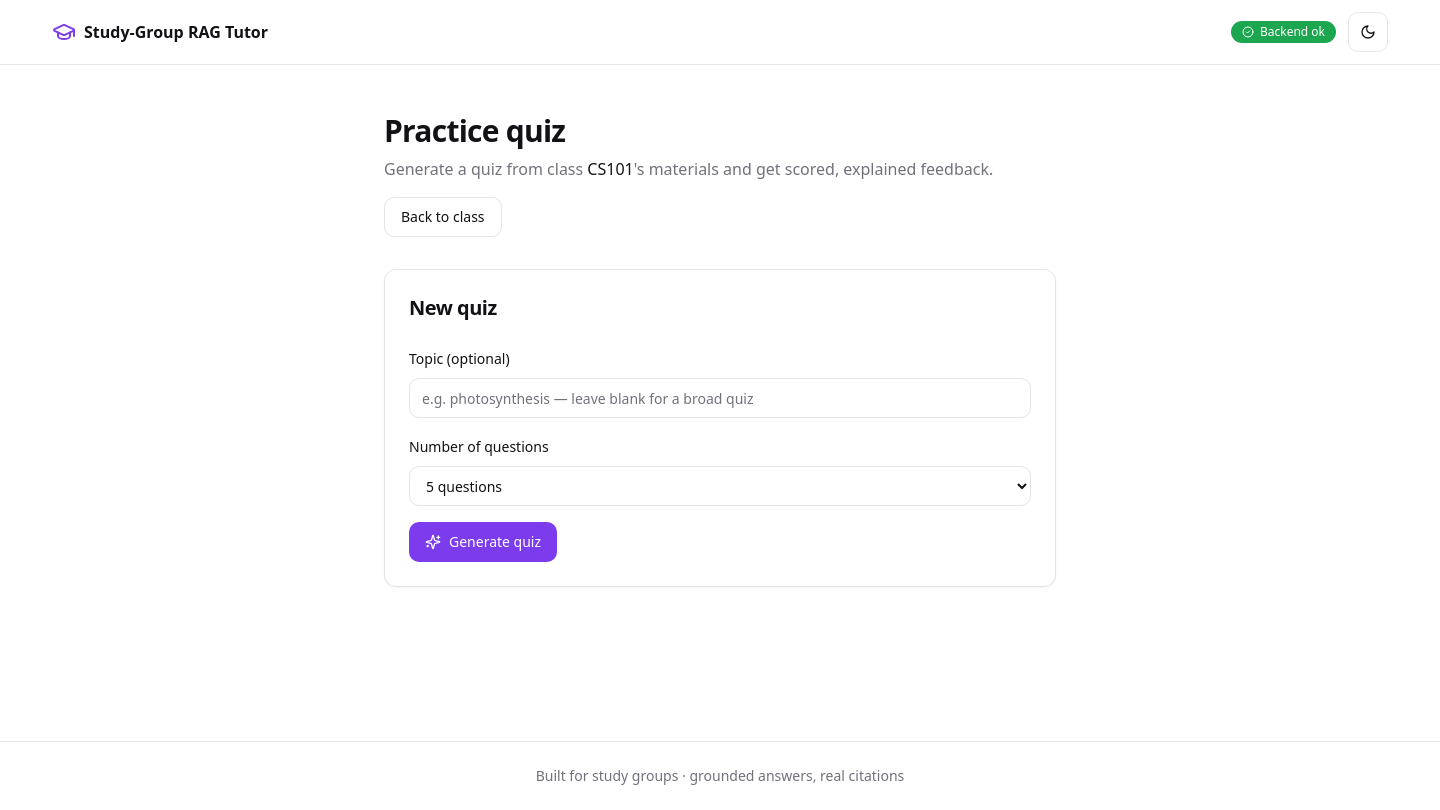
Test: QuizPage › shows an upload prompt when the course has no materials
Click the button "Generate quiz".
click(483, 542)  # box x1=409 y1=522 x2=557 y2=562
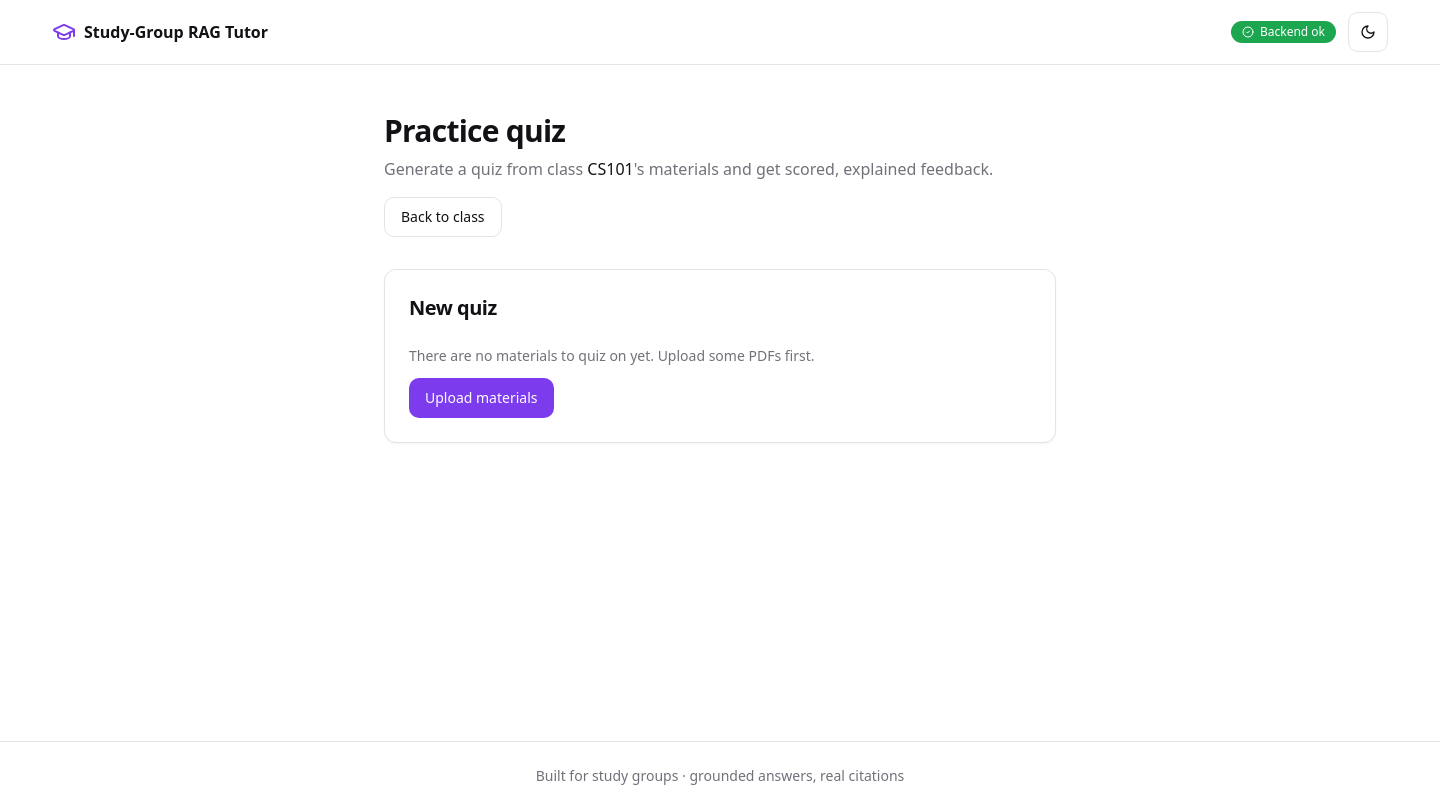
Expected: the text "no materials to quiz on yet" is shown, x1=409 y1=346 x2=814 y2=365
Expected: the link "Upload materials" is shown, x1=409 y1=378 x2=554 y2=418
